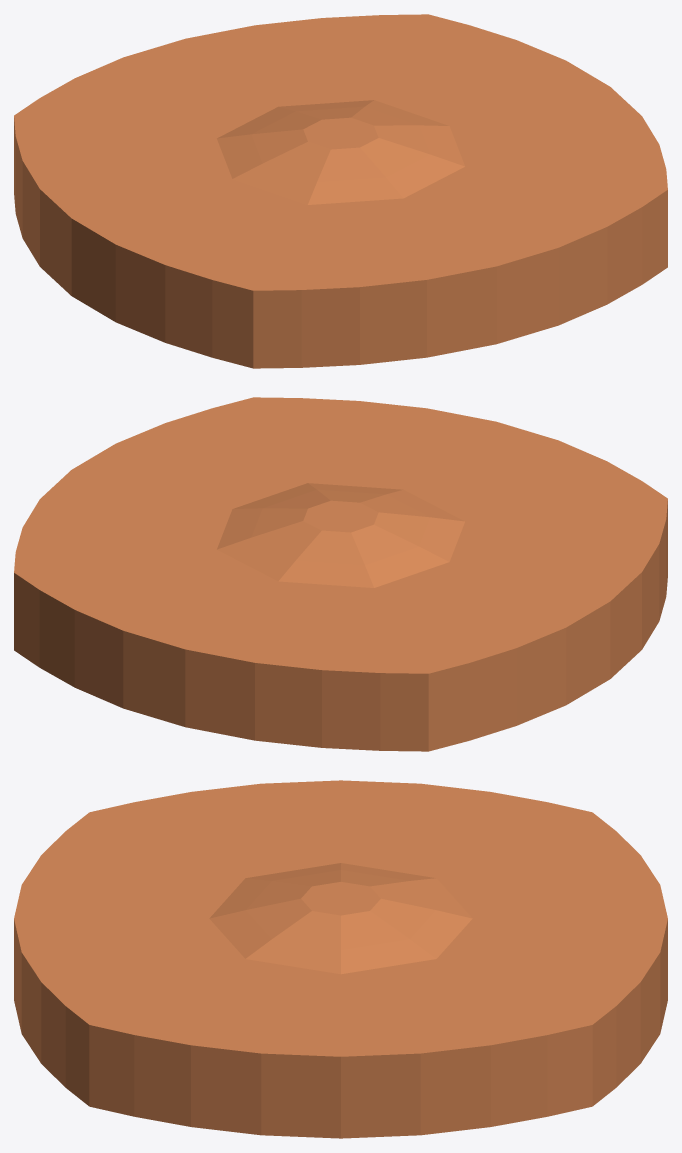
The model's file is 1Copper.fbx.
3 views of the same model, one above another, from view 1: azimuth 30°, elevation 25°; view 2: azimuth 150°, elevation 25°; view 3: azimuth 270°, elevation 25° (orthographic). The views are drawn at different scales.
Parts seen in each view (by area): view 1: Copper.002; view 2: Copper.002; view 3: Copper.002.
Boxes of the visible parts, bbox=[...] form: Copper.002: bbox=[14, 14, 667, 368]; Copper.002: bbox=[14, 397, 667, 751]; Copper.002: bbox=[14, 780, 667, 1138].
Size of the model in its own units: 8.92 by 1.53 by 8.92.
